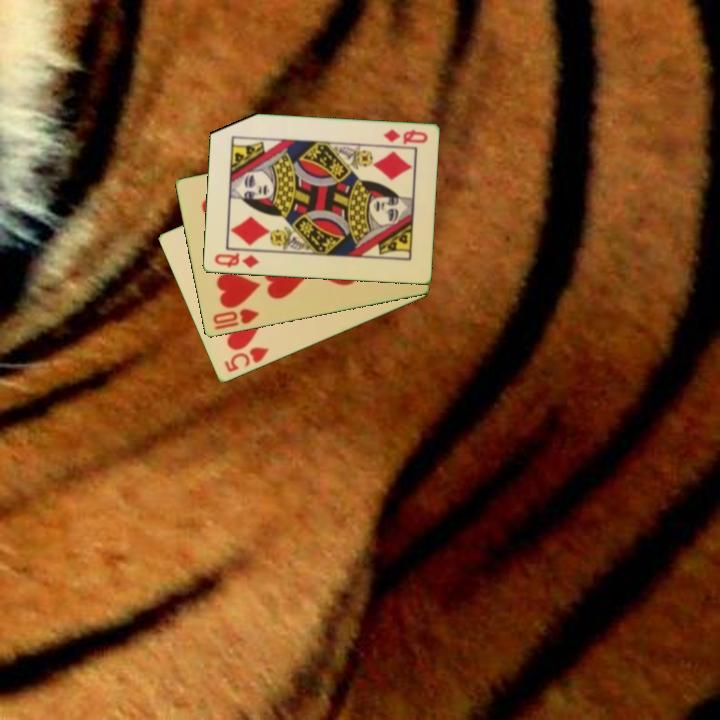10h: (209, 305, 262, 333)
5h: (220, 344, 272, 376)
Qd: (211, 250, 262, 271), (380, 126, 430, 147)
